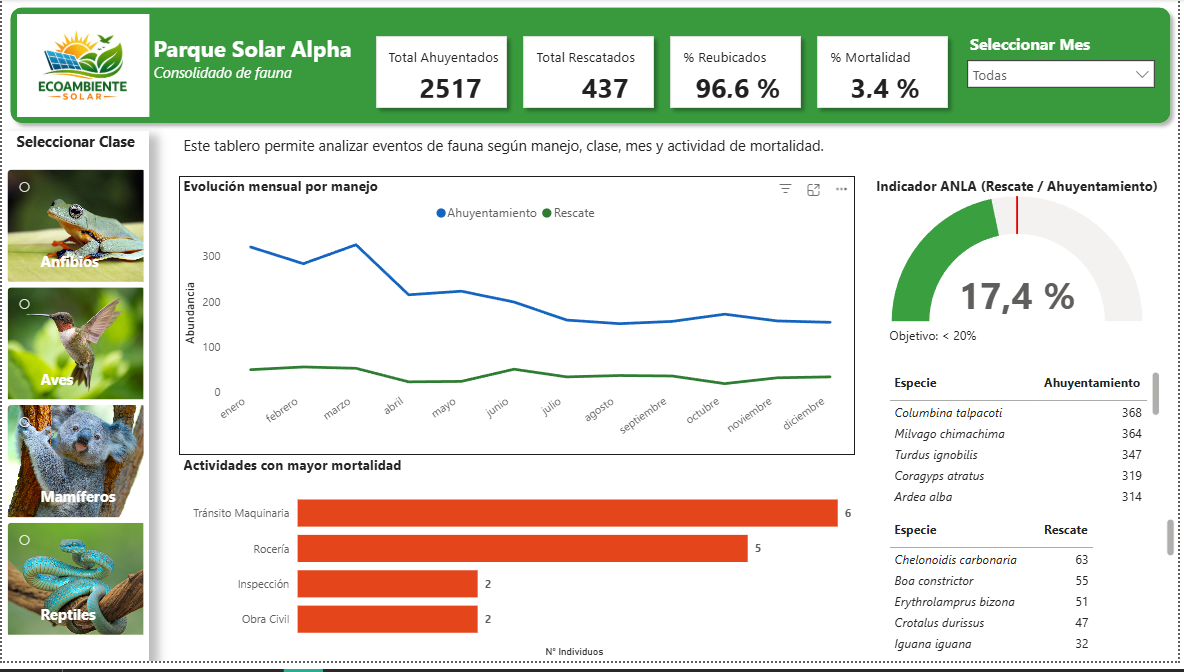

This screenshot's page, from the dashboard's own definition file:
{"tool":"powerbi","page":{"name":"Dashboard de Gestión Ambiental","canvas":[1280,720],"ordinal":0},"visuals":[{"type":"shape","box":[0,0,1280,144],"z":0},{"type":"shape","box":[398.4,32,160,96],"z":0,"group":"g1"},{"type":"gauge","title":"Indicador ANLA (Rescate / Ahuyentamiento)","fields":{"Y":["Registros.Indicador ANLA"]},"box":[944,192,320,163.4],"z":0,"group":"g4"},{"type":"textbox","box":[160,32,240,80],"z":1000,"group":"g2"},{"type":"group","id":"g1","title":"Grupo 5","box":[398.4,32,640,96],"z":1000},{"type":"shape","box":[558.4,32,160,96],"z":1000,"group":"g1"},{"type":"shape","box":[718.4,32,160,96],"z":2000,"group":"g1"},{"type":"multiRowCard","fields":{"Values":["Registros.Mensaje Ahuyentamiento"]},"box":[960,432,256,32],"z":2000},{"type":"shape","box":[878.4,32,160,96],"z":3000,"group":"g1"},{"type":"advancedSlicerVisual","title":"Seleccionar Clase","fields":{"Values":["Clases.Nombre_seccion"]},"box":[0,144,160,576],"z":3000},{"type":"slicer","fields":{"Values":["Registros.Fecha.Variación.Jerarquía de fechas.Mes"]},"box":[1040,32,224,80],"z":3001,"group":"g2"},{"type":"group","id":"g2","title":"Grupo 1","box":[160,32,1104,80],"z":4000},{"type":"card","title":"Total  Ahuyentamientos","fields":{"Values":["Registros.Total Ahuyentamiento"]},"box":[432,80,112,32],"z":5000},{"type":"textbox","box":[416,48,144,32],"z":6000},{"type":"textbox","box":[960,352,121.6,27.7],"z":6000,"group":"g3"},{"type":"card","title":"Total  Ahuyentamientos","fields":{"Values":["Registros.Total Rescates"]},"box":[608,80,96,32],"z":7000},{"type":"group","id":"g3","title":"Grupo 3","box":[960,352,128,32],"z":7000,"group":"g4"},{"type":"lineChart","title":"Evolución mensual por manejo","fields":{"Category":["Registros.Fecha.Variación.Jerarquía de fechas.Mes"],"Series":["Registros.Manejo"],"Y":["Sum(Registros.Abundancia)"]},"box":[192,192,736,304],"z":8000},{"type":"textbox","box":[576,48,128,32],"z":9000},{"type":"barChart","title":"Actividades con mayor mortalidad","fields":{"Category":["Registros.Actividad"],"Y":["Registros.Muertes"]},"box":[192,496,736,224],"z":10000},{"type":"card","title":"Total  Ahuyentamientos","fields":{"Values":["Registros.% Reubicación"]},"box":[736,80,128,32],"z":11000},{"type":"group","id":"g4","title":"Grupo 4","box":[944,192,320,192],"z":12000},{"type":"textbox","box":[736,48,112,32],"z":13000},{"type":"pivotTable","fields":{"Rows":["Registros.Especie"],"Values":["Sum(Registros.Abundancia)"],"Columns":["Registros.Manejo"]},"box":[960,400,304,160],"z":14000},{"type":"card","title":"Total  Ahuyentamientos","fields":{"Values":["Registros.% Mortalidad"]},"box":[912,80,96,32],"z":15000},{"type":"pivotTable","fields":{"Rows":["Registros.Especie"],"Values":["Sum(Registros.Abundancia)"],"Columns":["Registros.Manejo"]},"box":[960,560,320,160],"z":16000},{"type":"textbox","box":[896,48,112,32],"z":17000},{"type":"textbox","box":[192,144,1072,48],"z":18000},{"type":"image","box":[16,16,144,112],"z":19000}]}

Visuals, with their boxes in screenshot pixels (x1, y1, x2, y2), scaled from the page's 1280x720 canvas onto the 1184x672 screenshot:
shape: bbox=(0, 0, 1183, 134)
shape: bbox=(369, 30, 517, 119)
"Indicador ANLA (Rescate / Ahuyentamiento)" gauge: bbox=(873, 179, 1169, 332)
textbox: bbox=(148, 30, 370, 105)
"Grupo 5" group: bbox=(369, 30, 961, 119)
shape: bbox=(517, 30, 665, 119)
shape: bbox=(665, 30, 813, 119)
multiRowCard - Registros.Mensaje Ahuyentamiento: bbox=(888, 403, 1125, 433)
shape: bbox=(813, 30, 961, 119)
"Seleccionar Clase" advancedSlicerVisual: bbox=(0, 134, 148, 671)
slicer - Registros.Fecha.Variación.Jerarquía de fechas.Mes: bbox=(962, 30, 1169, 105)
"Grupo 1" group: bbox=(148, 30, 1169, 105)
"Total  Ahuyentamientos" card: bbox=(400, 75, 503, 105)
textbox: bbox=(385, 45, 518, 75)
textbox: bbox=(888, 329, 1000, 354)
"Total  Ahuyentamientos" card: bbox=(562, 75, 651, 105)
"Grupo 3" group: bbox=(888, 329, 1006, 358)
"Evolución mensual por manejo" lineChart: bbox=(178, 179, 858, 463)
textbox: bbox=(533, 45, 651, 75)
"Actividades con mayor mortalidad" barChart: bbox=(178, 463, 858, 671)
"Total  Ahuyentamientos" card: bbox=(681, 75, 799, 105)
"Grupo 4" group: bbox=(873, 179, 1169, 358)
textbox: bbox=(681, 45, 784, 75)
pivotTable - Registros.Especie x Sum(Registros.Abundancia): bbox=(888, 373, 1169, 523)
"Total  Ahuyentamientos" card: bbox=(844, 75, 932, 105)
pivotTable - Registros.Especie x Sum(Registros.Abundancia): bbox=(888, 523, 1183, 671)
textbox: bbox=(829, 45, 932, 75)
textbox: bbox=(178, 134, 1169, 179)
image: bbox=(15, 15, 148, 119)
